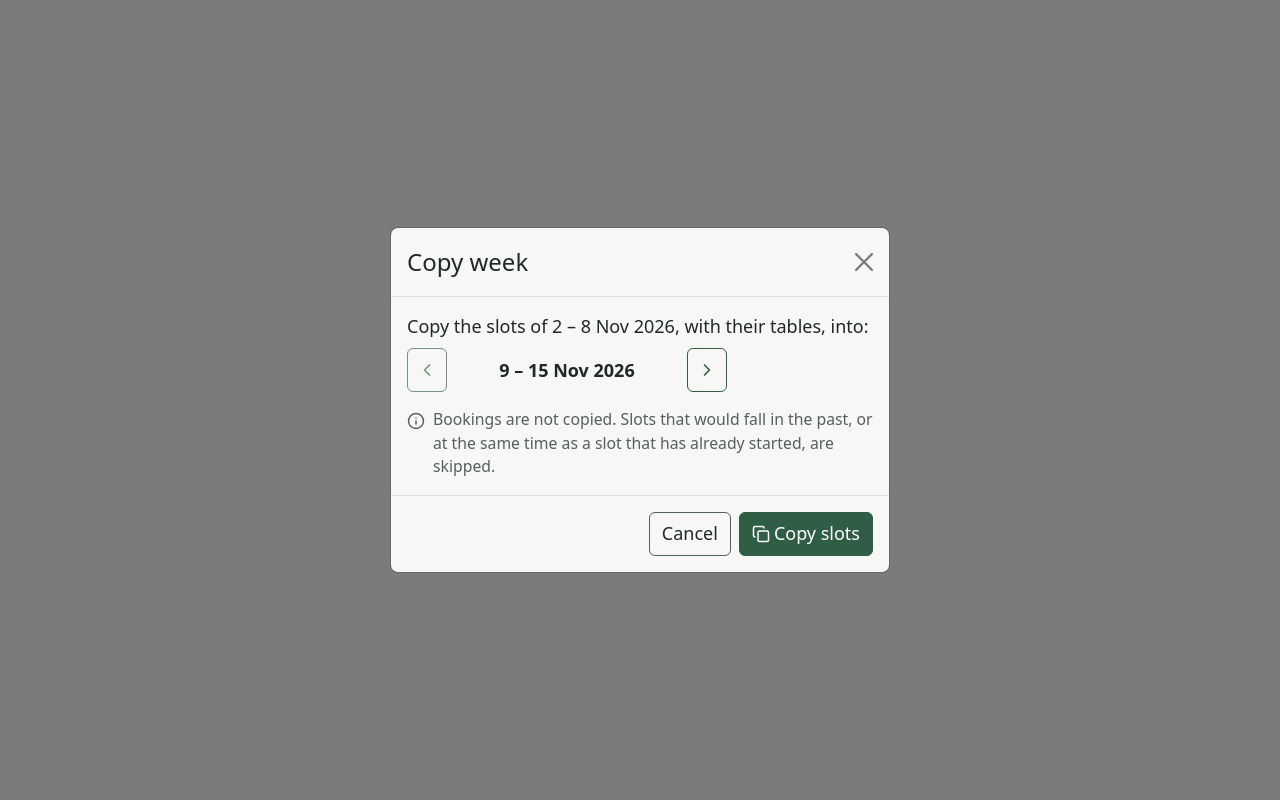
it: CopyWeekDialog › ignores the answer for a week already left
Step 1. Click the button named "Next week" → (707, 370), box x1=687 y1=348 x2=727 y2=392
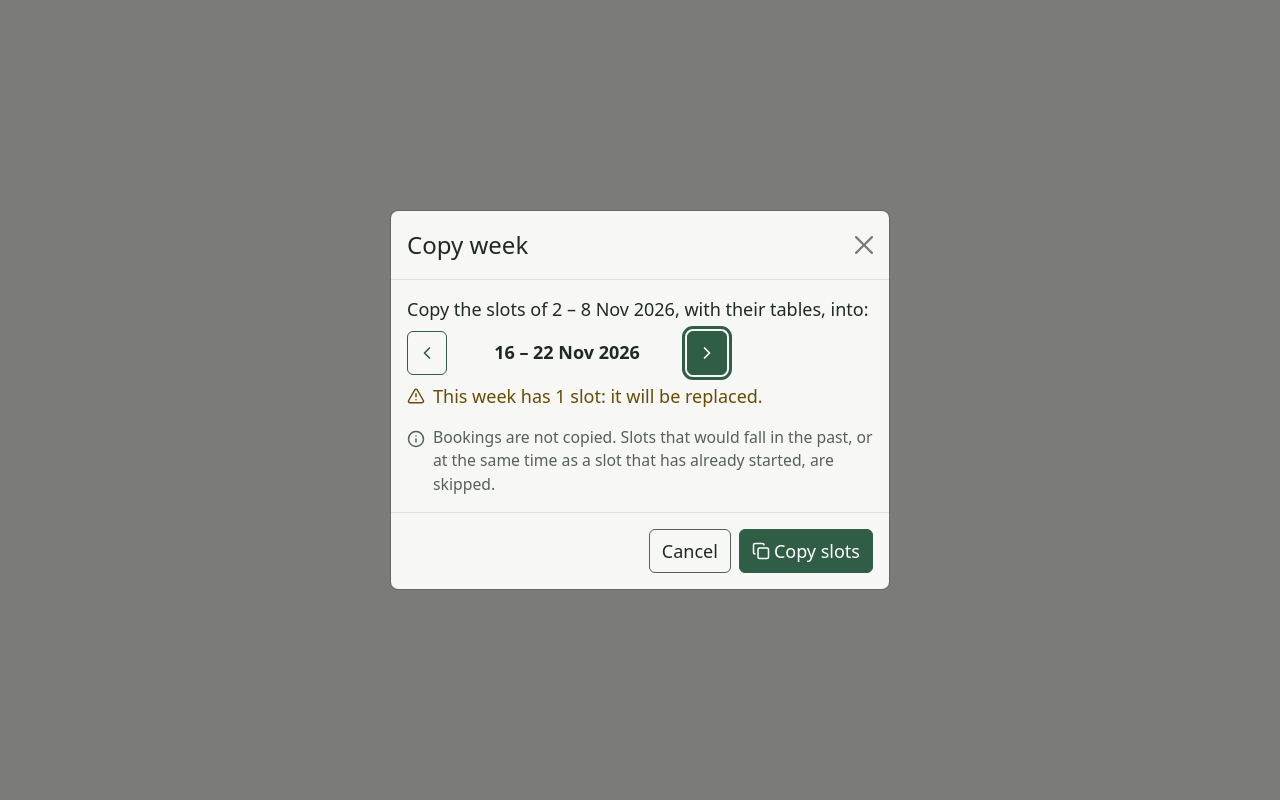
Expected: the text "This week has 1 slot: it will be replaced." is shown, x1=407 y1=384 x2=763 y2=408
